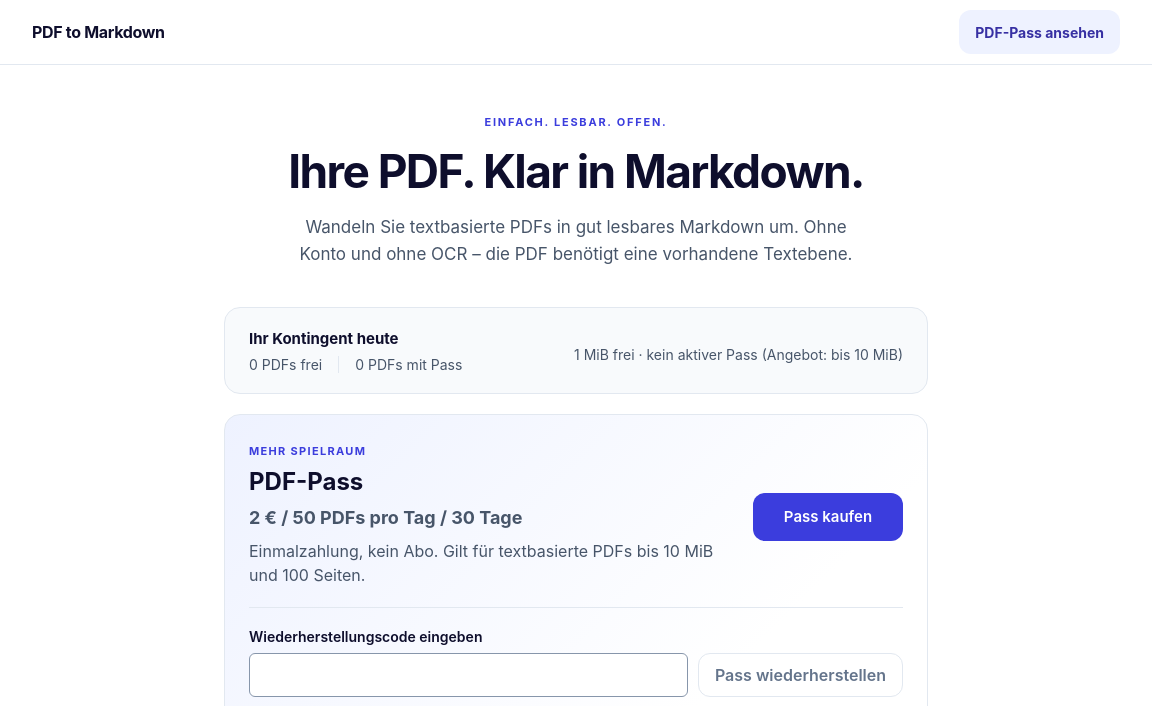
Scenario: redeeming a code refreshes quota and does not claim success for invalid codes
Expected: the text "0 PDFs frei" is shown, [249,356,322,373]
Type "my-code" into the field labelled "Wiederherstellungscode eingeben" at (468, 675), box [249,653,688,697]
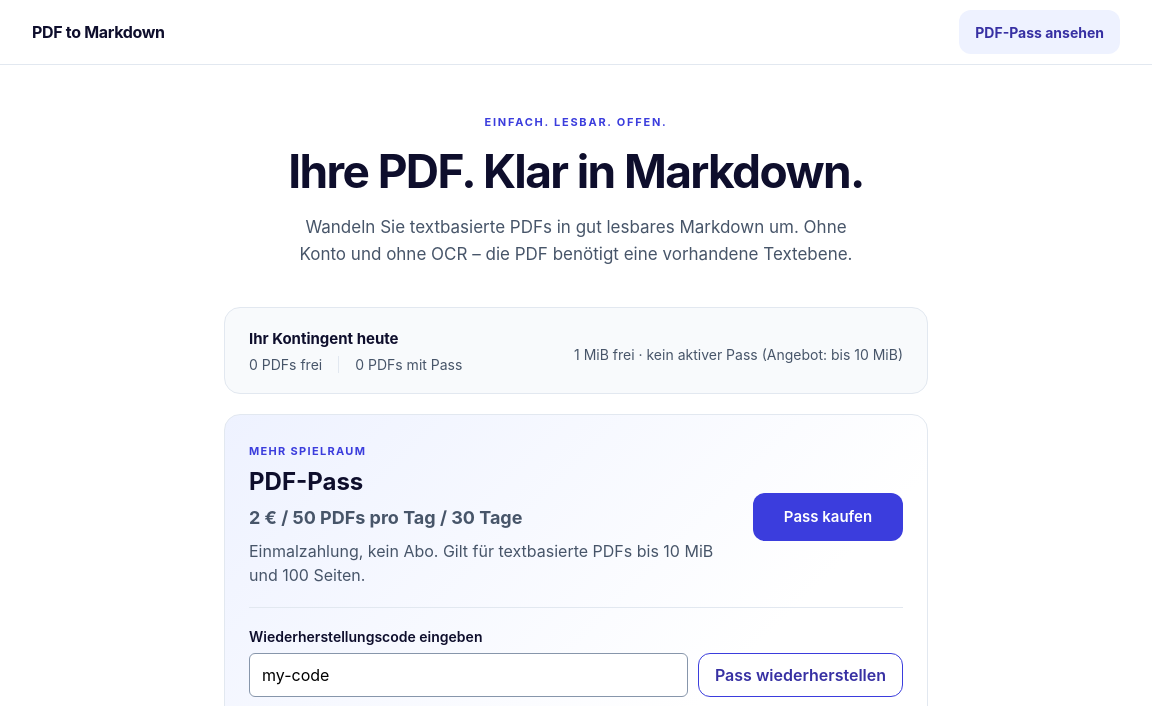
Click the button "Pass wiederherstellen" at (800, 675), box [698,653,903,697]
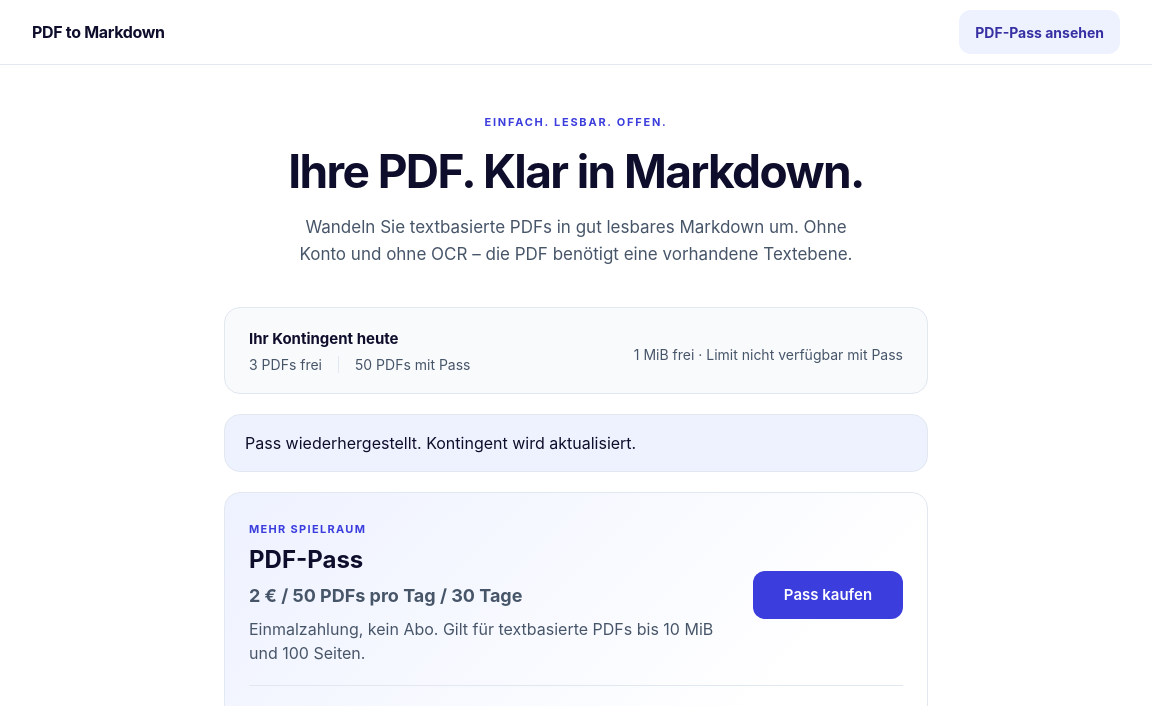
Result: the text "50 PDFs mit Pass" is shown at [338,356,470,373]
